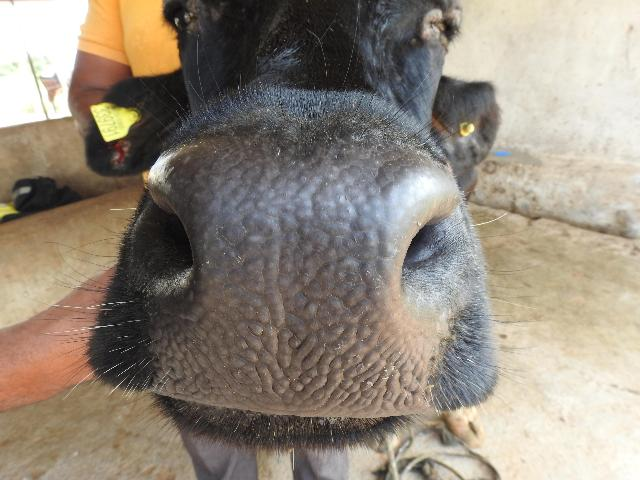Muzzle: (194, 156, 398, 410)
